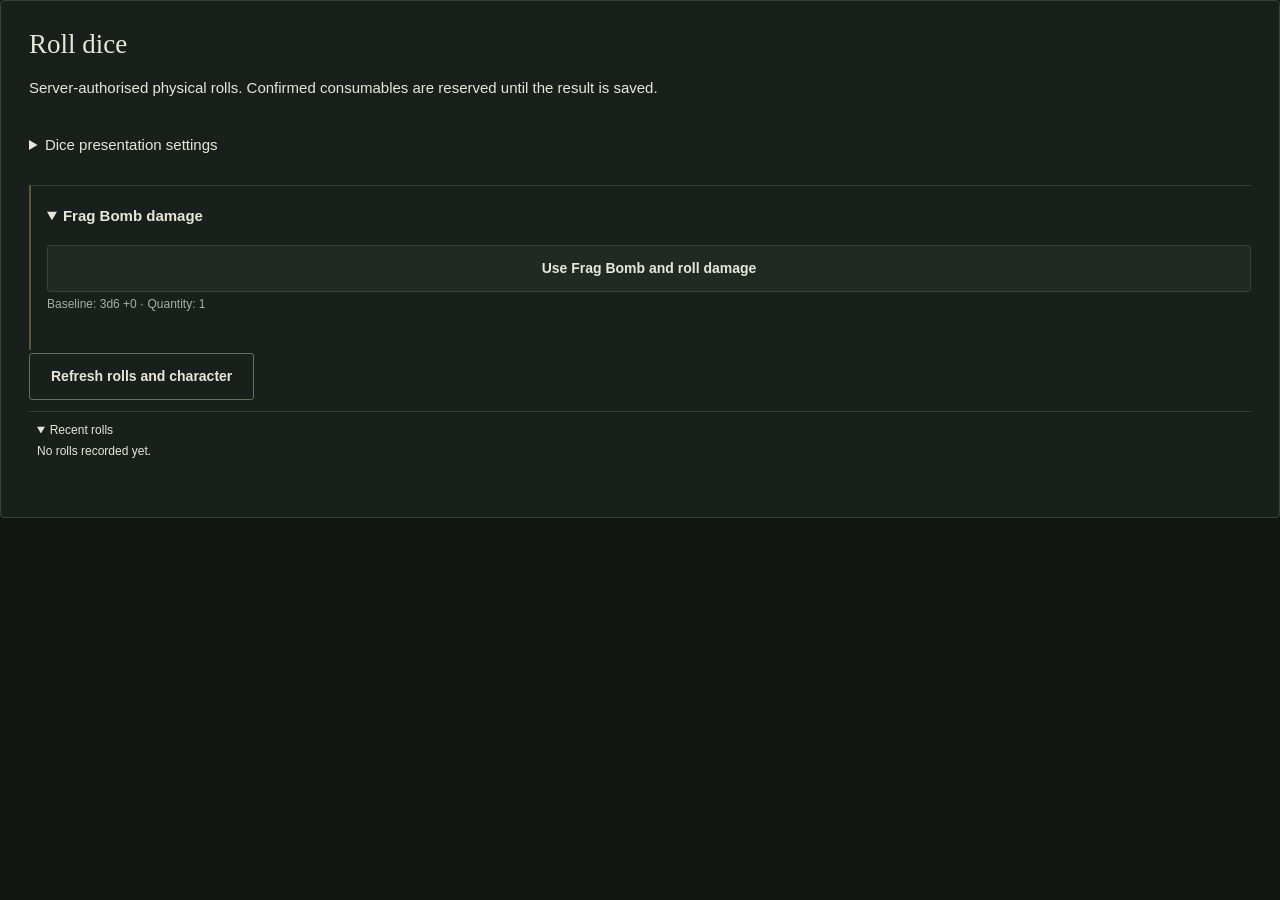
uses the actual consumable name for Frag Bomb confirmation
Click the button "Use Frag Bomb and roll damage".
click(649, 269)  # box [47,245,1251,292]
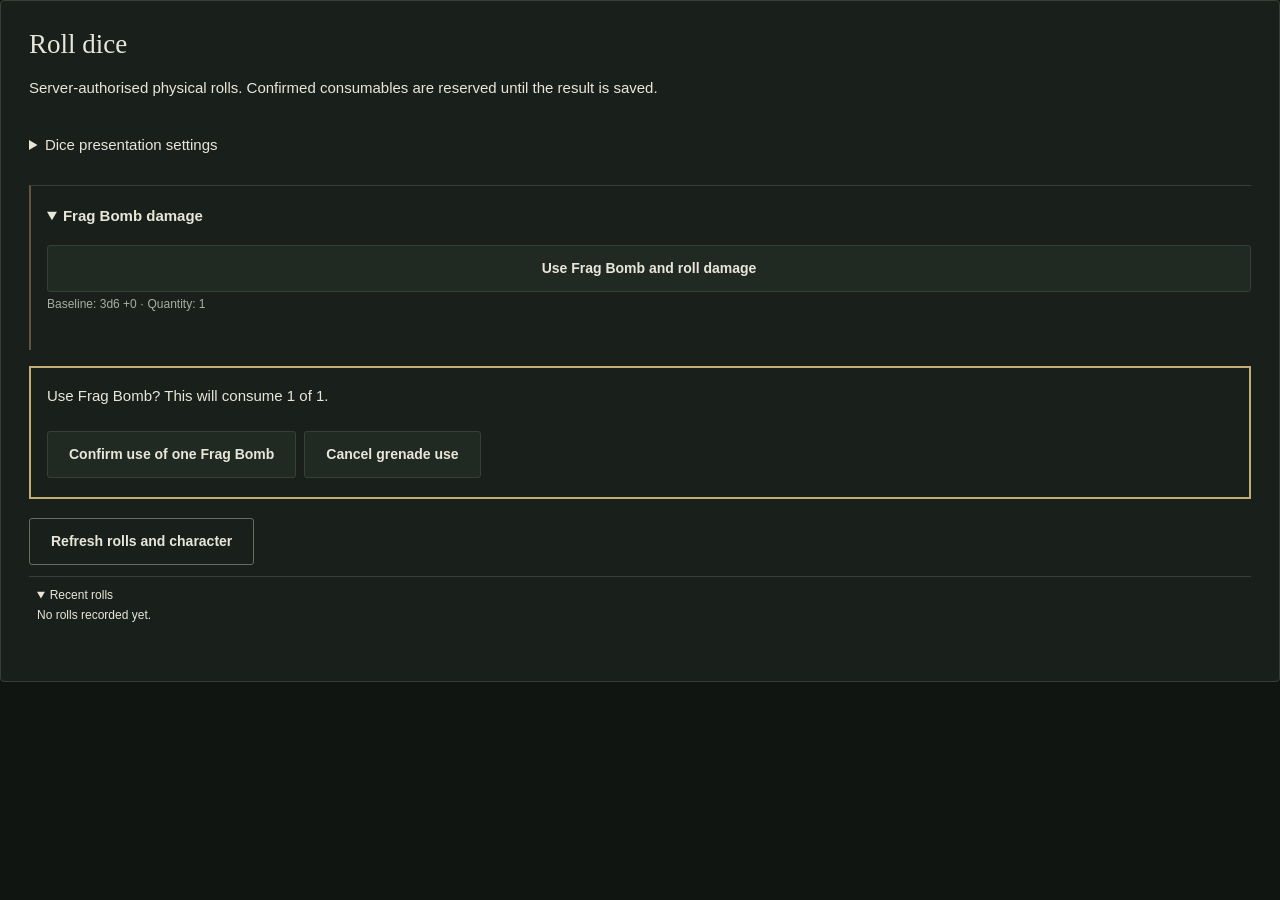
Expected: the text "Use Frag Bomb? This will consume 1 of 1." is shown, [47,387,328,404]
Expected: the button "Confirm use of one Frag Bomb" is shown, [47,431,296,478]
